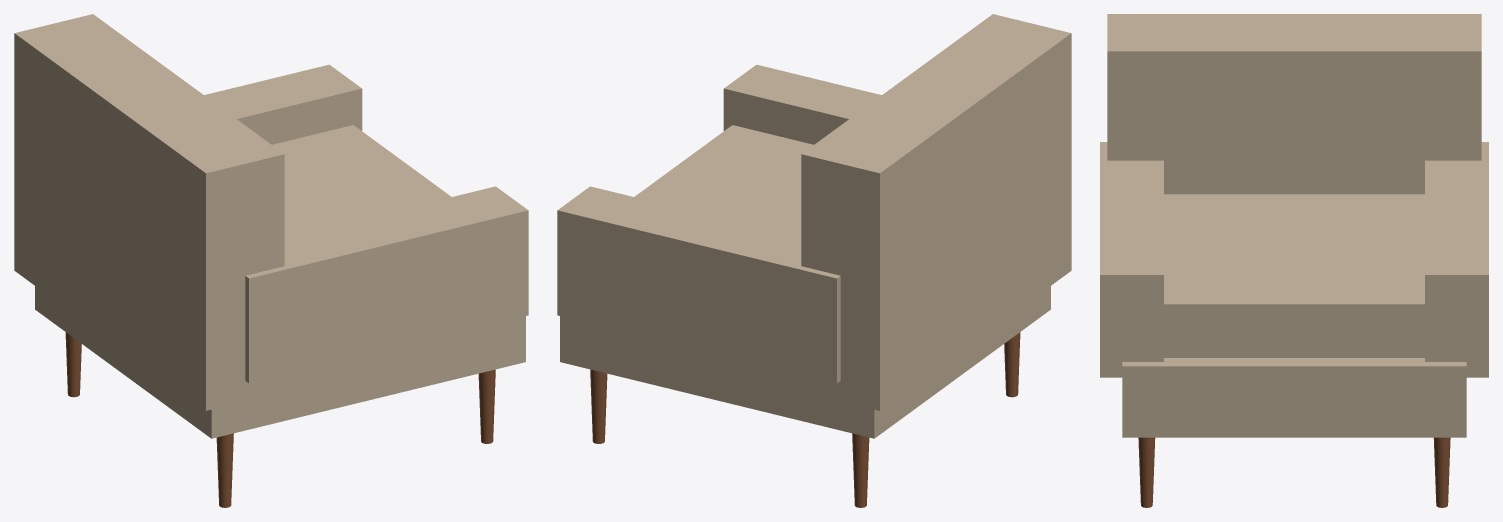
File: laenestol-eksempel.glb
3 views of the same model, side by side, from view 1: azimuth 30°, elevation 25°; view 2: azimuth 150°, elevation 25°; view 3: azimuth 270°, elevation 25° (orthographic). The views are drawn at different scales.
Size of the model in its own units: 750 by 780 by 790.
